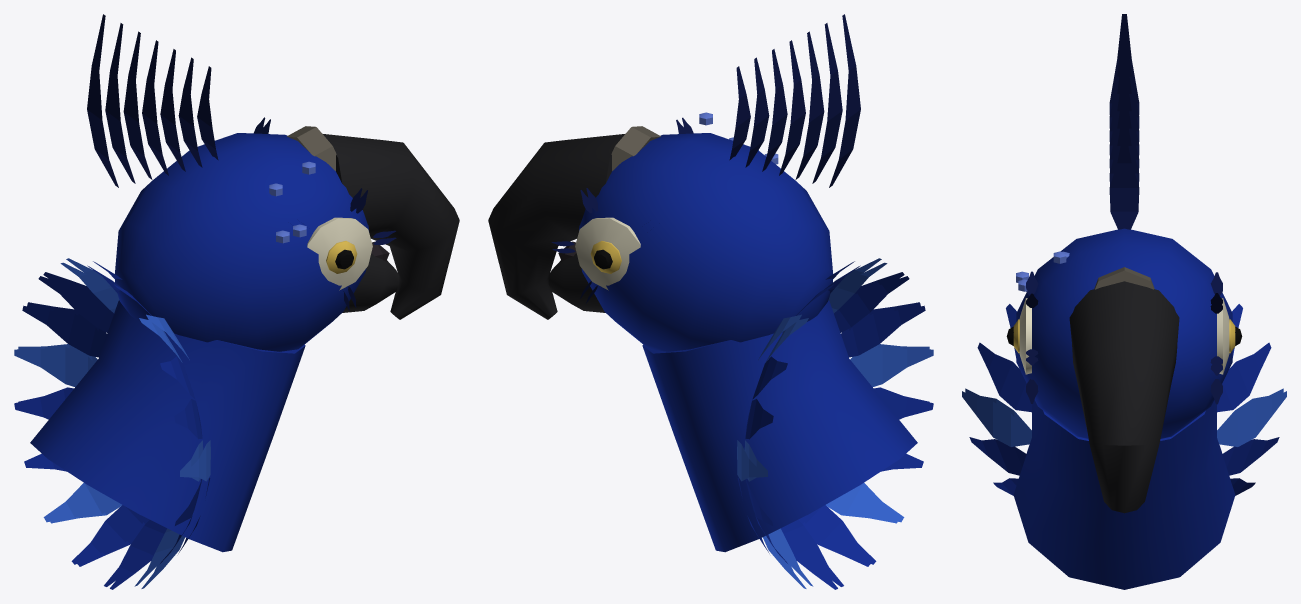
The model's file is sb_head.glb.
The picture shows the model from 3 angles, left to right: view 1: azimuth 30°, elevation 25°; view 2: azimuth 150°, elevation 25°; view 3: azimuth 270°, elevation 25°; orthographic projection. The views are drawn at different scales.
Parts seen in each view (by area): view 1: teil0, teil1, teil4, teil3, teil2, teil7, teil6, teil10; view 2: teil0, teil1, teil4, teil3, teil2, teil7, teil6; view 3: teil0, teil1, teil4, teil3, teil2, teil7, teil6.
Part boxes in pixels (x1,y1,x2,y2): teil0: (14,261,305,589); teil1: (115,133,369,351); teil4: (323,134,459,319); teil3: (87,14,396,311); teil2: (14,258,210,588); teil7: (307,217,372,290); teil6: (287,126,336,170); teil10: (269,161,315,243); teil0: (642,261,933,589); teil1: (579,133,832,351); teil4: (488,134,624,319); teil3: (551,14,860,303); teil2: (737,258,933,588); teil7: (575,217,640,290); teil6: (611,126,660,170); teil0: (969,304,1279,589); teil1: (1016,228,1232,438); teil4: (1069,281,1179,513); teil3: (1026,14,1222,404); teil2: (962,388,1286,446); teil7: (1019,298,1229,374); teil6: (1094,267,1154,289).
Size of the model in its own units: 0.1463 by 0.1926 by 0.1054.
